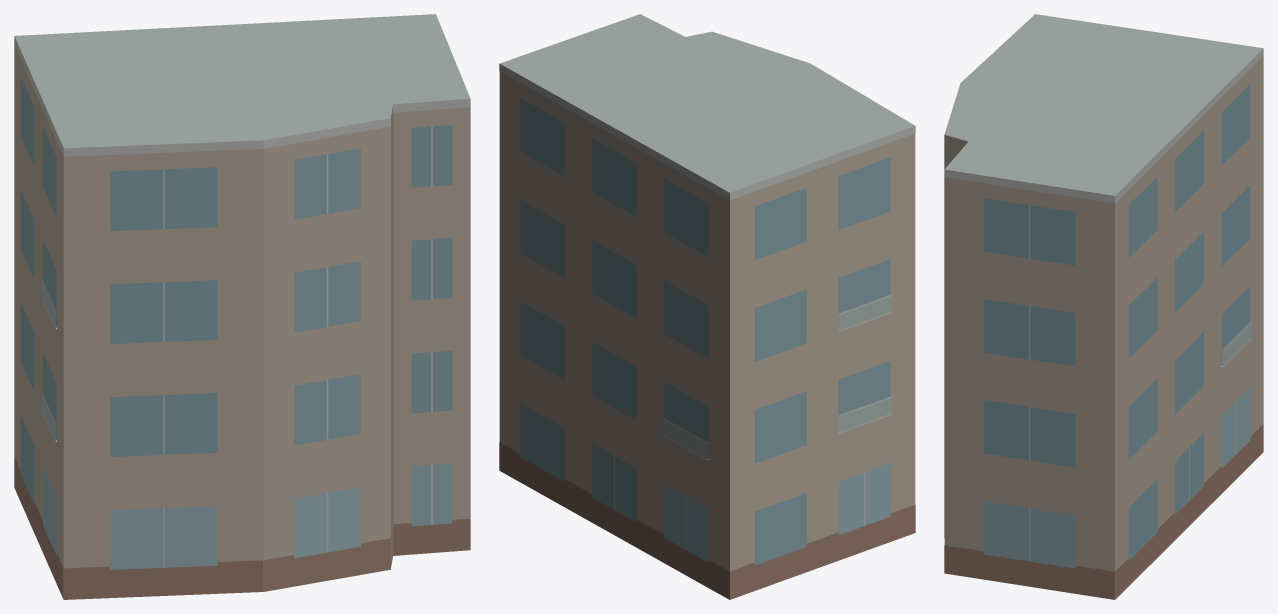
The model's file is survey-upis-32756262.glb.
3 renders of one model, left to right at view 1: azimuth 30°, elevation 25°; view 2: azimuth 150°, elevation 25°; view 3: azimuth 270°, elevation 25°, orthographic. The views are drawn at different scales.
Parts seen in each view (by area): view 1: survey-upis-32756262.tmp; view 2: survey-upis-32756262.tmp; view 3: survey-upis-32756262.tmp.
Boxes of the visible parts, left/top/right/bottom form: survey-upis-32756262.tmp: left=14, top=14, right=470, bottom=599; survey-upis-32756262.tmp: left=499, top=14, right=915, bottom=599; survey-upis-32756262.tmp: left=944, top=14, right=1263, bottom=599.
Size of the model in its own units: 12.57 by 13 by 9.32.
